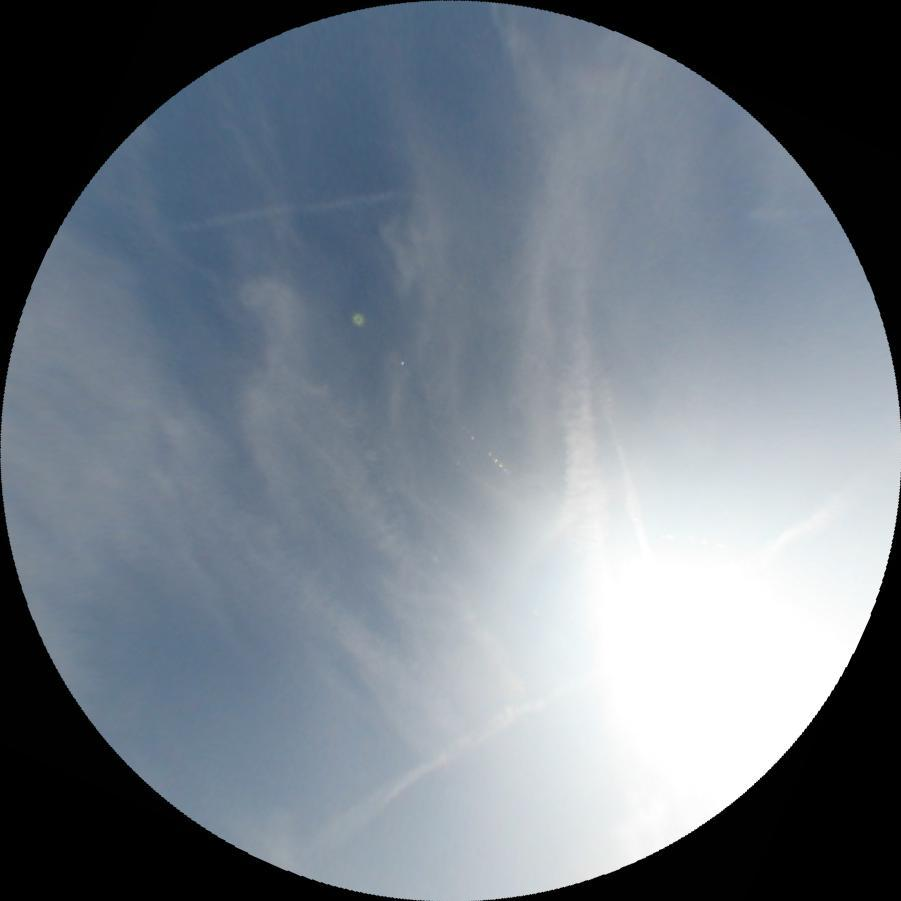contrail veryold: (300, 480, 860, 866), (166, 259, 536, 756), (217, 493, 465, 761), (542, 274, 611, 598), (585, 358, 664, 566), (169, 187, 402, 233)
sun: (506, 508, 862, 869)
